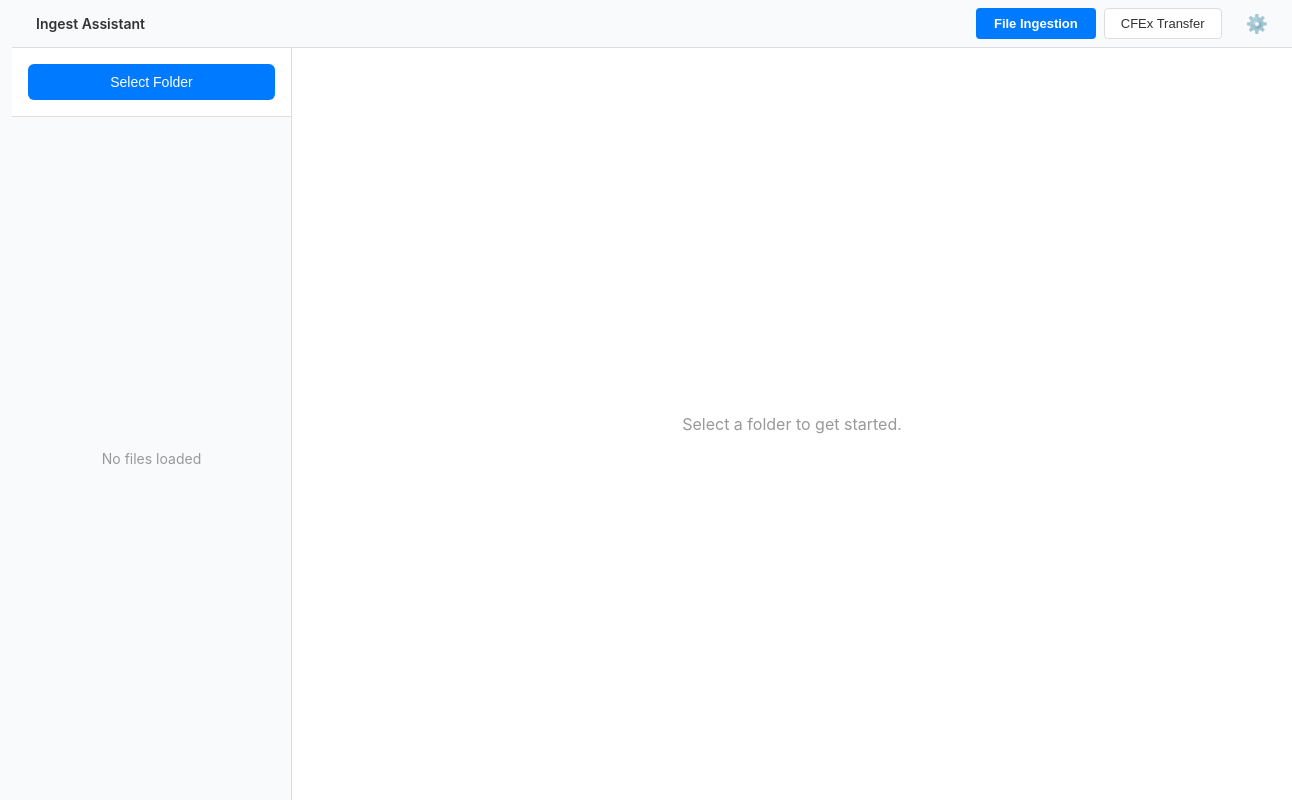
Test: Action Field Feature › Test 1: Action field rendering › should render action field in structured fields section
Trigger folder selection
Click the button "Select Folder".
click(152, 82)  # box [28,64,275,100]
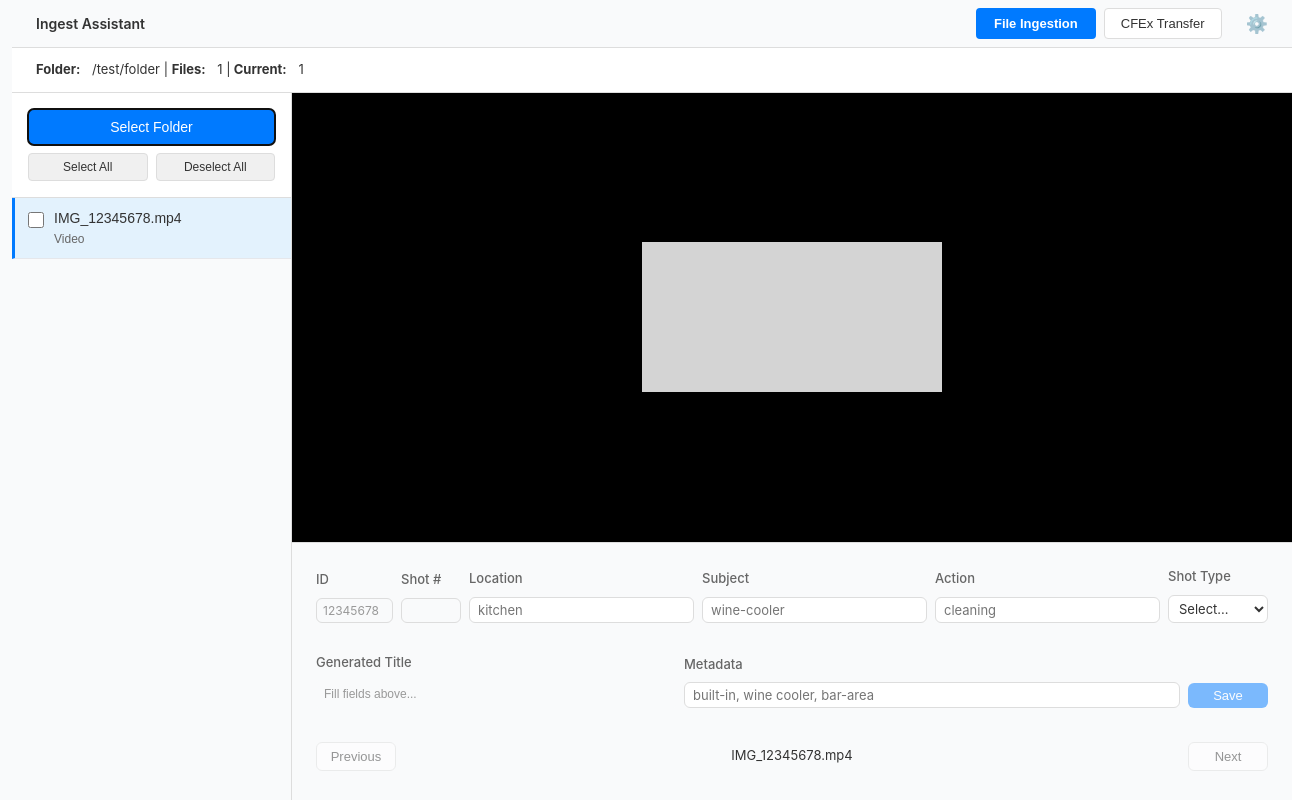
Expected: the field with placeholder "cleaning" is shown, [935,596,1160,622]
